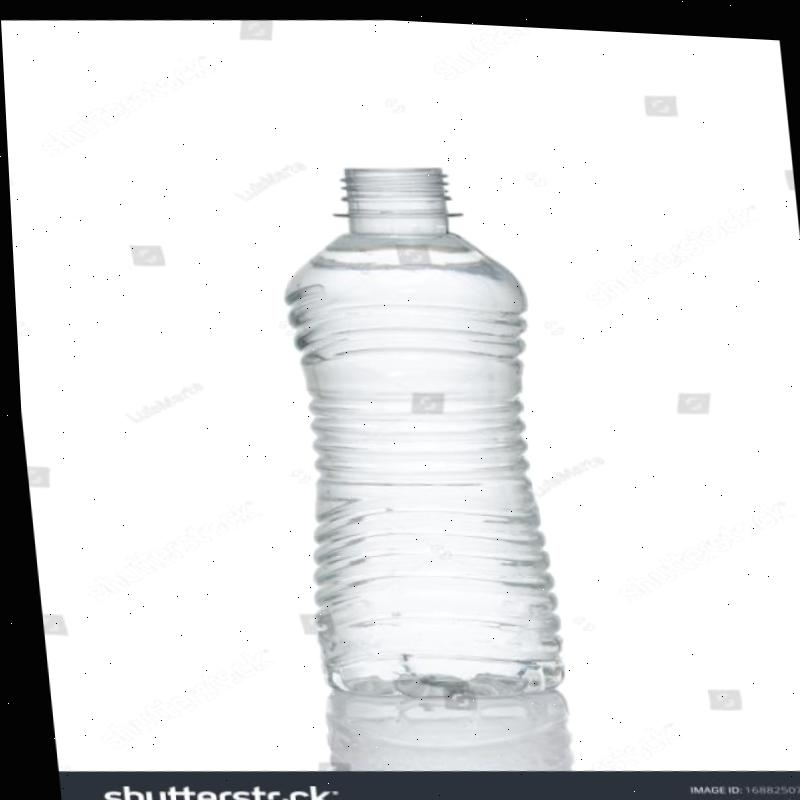botella: (270, 147, 566, 711)
